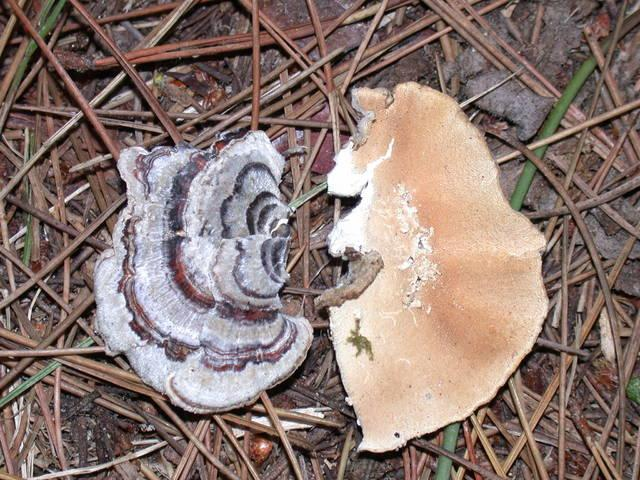poisonous_mushroom: (314, 79, 550, 454), (91, 127, 314, 415)
